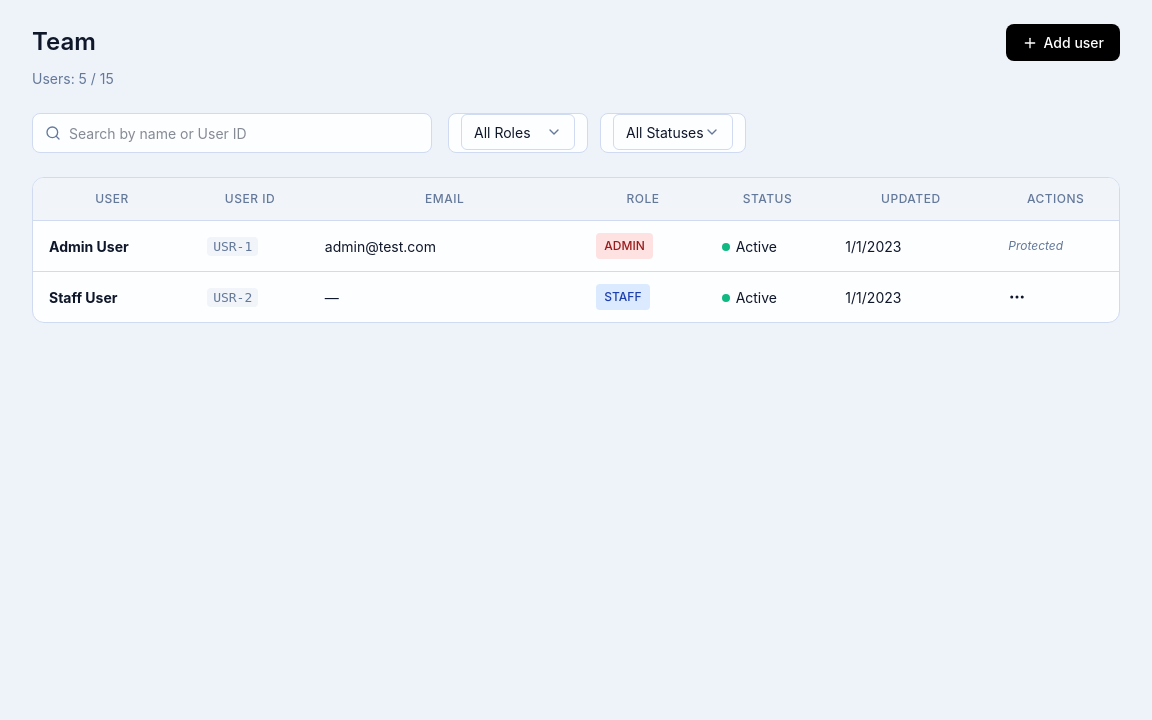
Test: UsersPage › Shop Admin Create User exposes STAFF/VIEWER only and no Shop selector
Click the button "Add user": x=1063, y=42 [1006,24,1120,61]
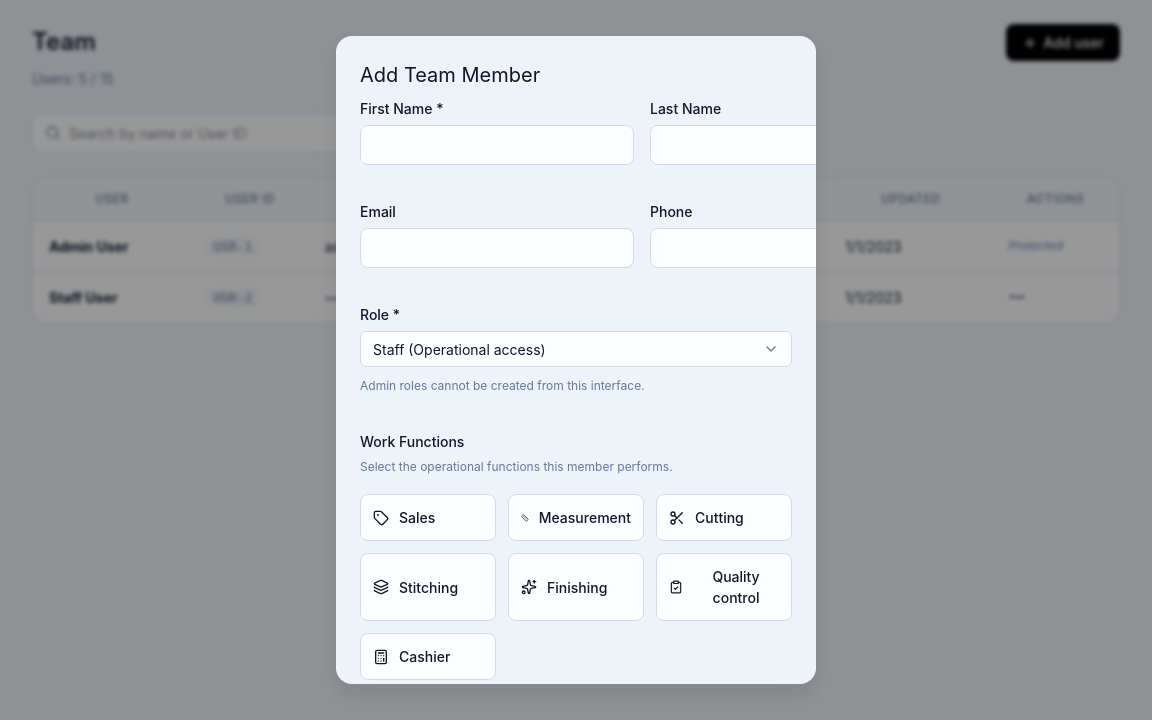
Click the button "Staff (Operational access)": x=459, y=349 [360,331,792,367]
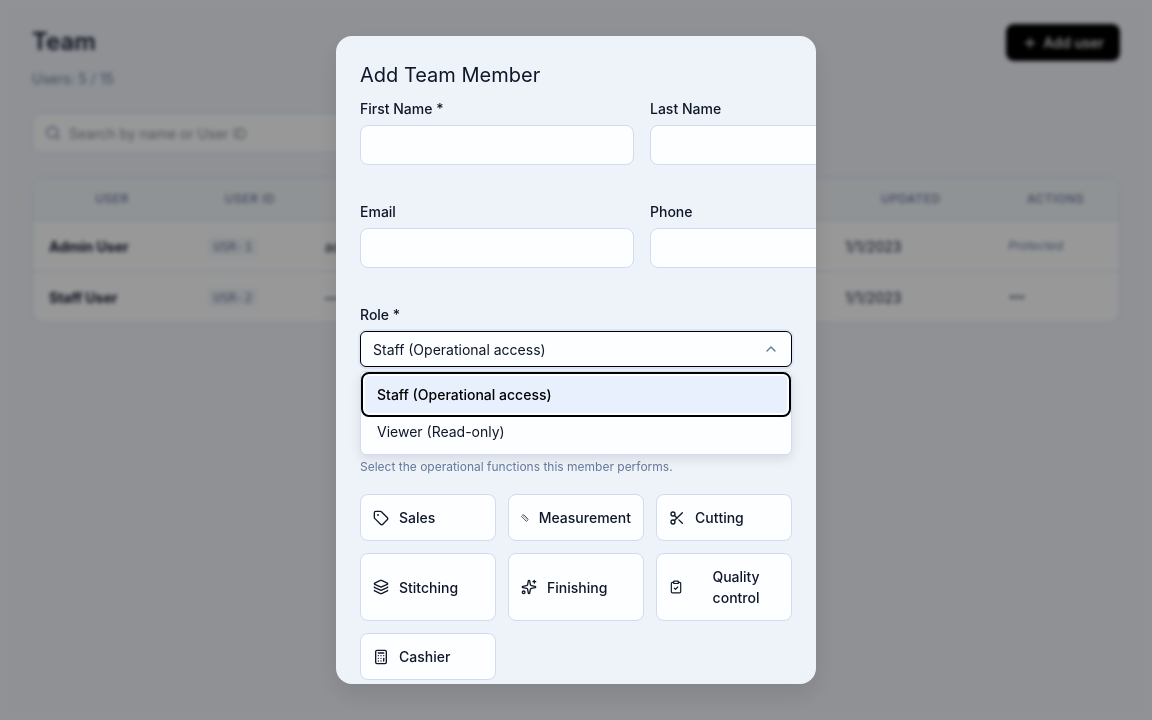
Check: the option "Staff (Operational access)" is shown, box [365,376,787,413]
Check: the option "Viewer (Read-only)" is shown, box [365,413,787,450]
